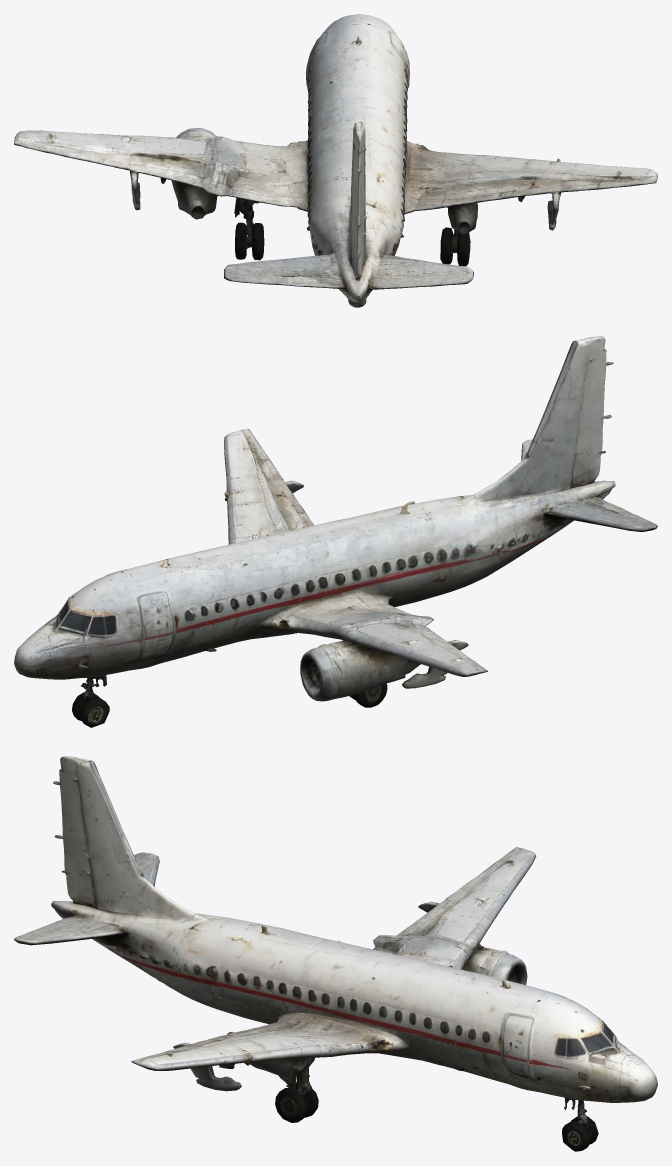
File: ap_airliner.glb
The picture shows the model from 3 angles, top to bottom: view 1: azimuth 30°, elevation 25°; view 2: azimuth 150°, elevation 25°; view 3: azimuth 270°, elevation 25°; orthographic projection. The views are drawn at different scales.
Parts seen in each view (by area): view 1: tripo_node_b91b34f0-df0c-41db-8d9c-10489da3341e; view 2: tripo_node_b91b34f0-df0c-41db-8d9c-10489da3341e; view 3: tripo_node_b91b34f0-df0c-41db-8d9c-10489da3341e.
Boxes of the visible parts, x1=… form: tripo_node_b91b34f0-df0c-41db-8d9c-10489da3341e: x1=14, y1=14, x2=657, y2=307; tripo_node_b91b34f0-df0c-41db-8d9c-10489da3341e: x1=14, y1=336, x2=657, y2=727; tripo_node_b91b34f0-df0c-41db-8d9c-10489da3341e: x1=14, y1=756, x2=657, y2=1151.
Bounding box in the file's own units: 0.783 × 0.4488 × 0.9796.
1 material, 1 textured.
